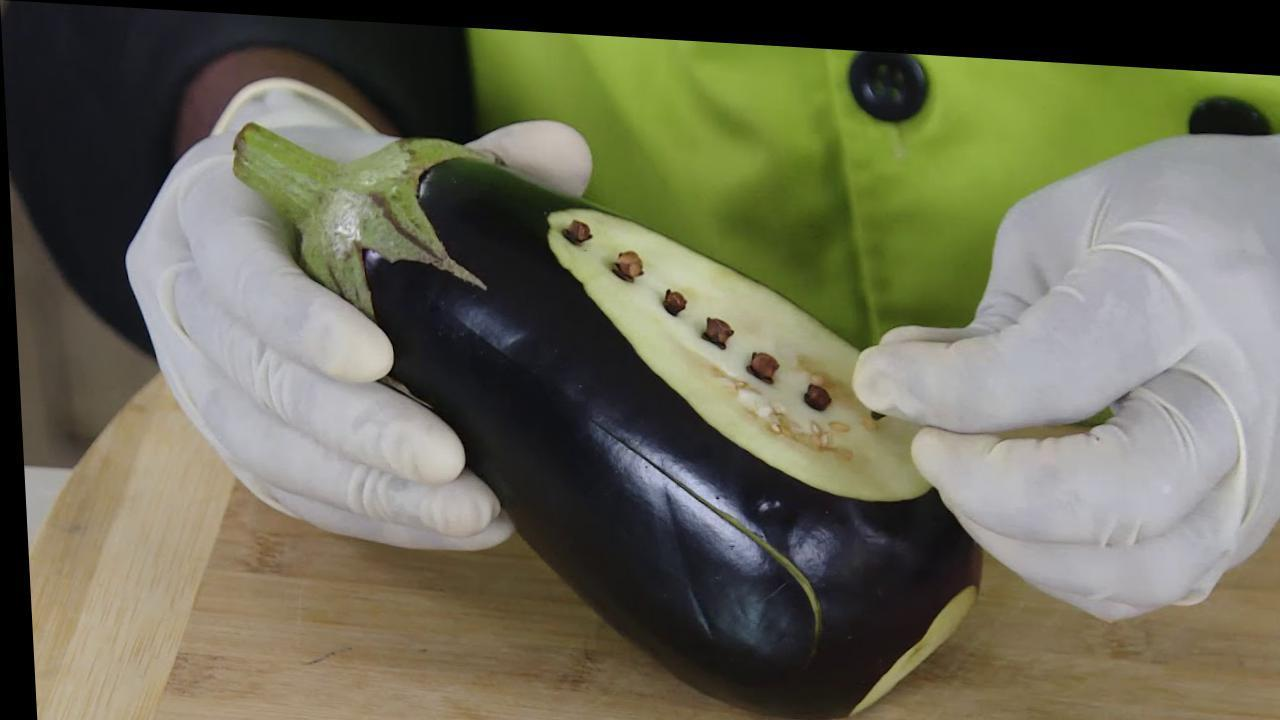eggplant: (376, 196, 1009, 670)
